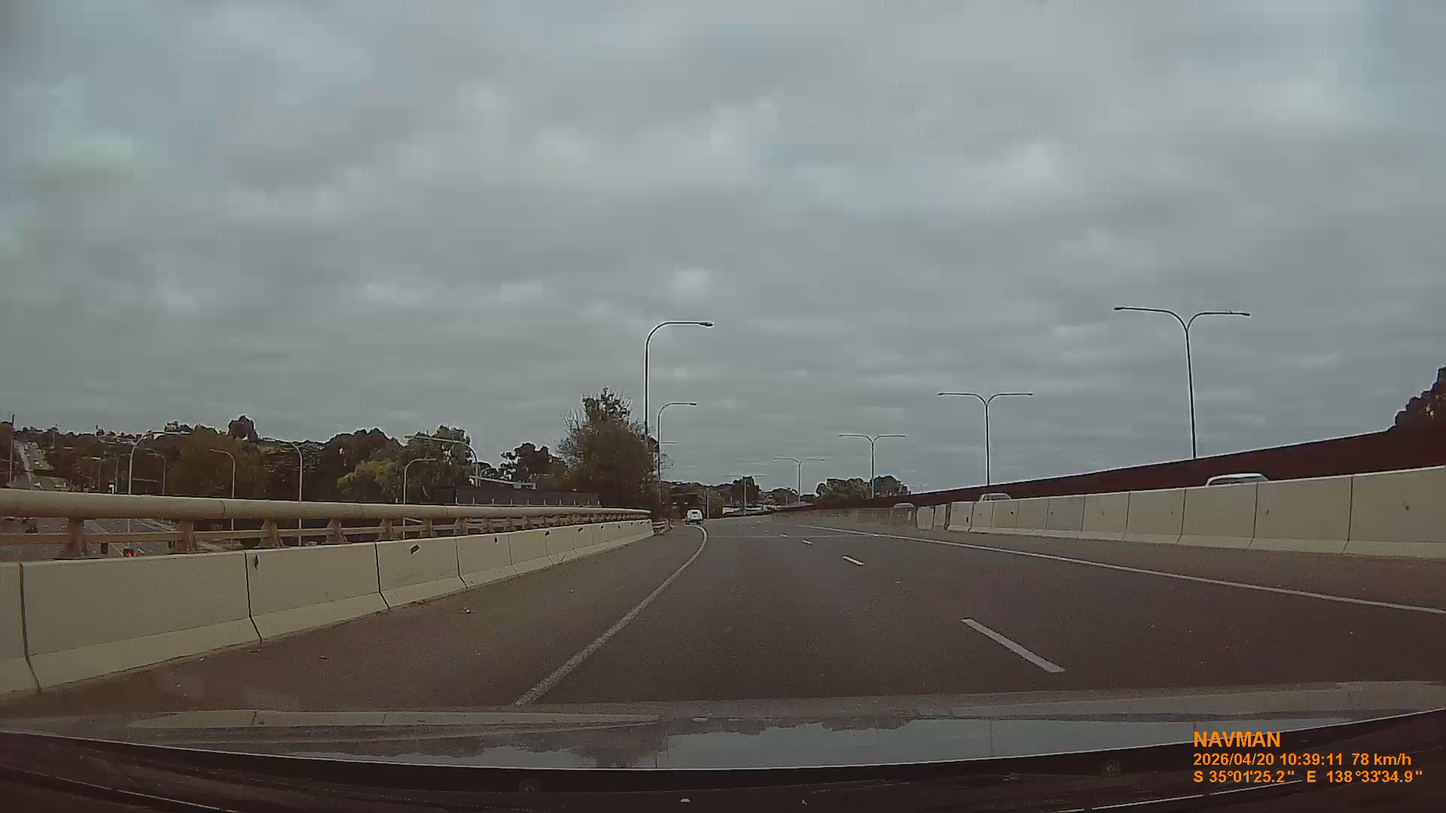road barriers: (0, 489, 654, 702), (914, 467, 1445, 559), (22, 553, 258, 690), (244, 544, 387, 639), (1346, 467, 1445, 557), (1251, 477, 1353, 553), (377, 537, 466, 607), (1178, 483, 1256, 549), (0, 564, 37, 695), (788, 501, 919, 533), (1124, 489, 1185, 543), (456, 534, 514, 586), (1081, 492, 1130, 540), (1043, 495, 1085, 537), (1013, 498, 1050, 534), (970, 501, 998, 531), (992, 501, 1020, 531), (947, 502, 975, 531), (933, 504, 950, 530), (916, 507, 935, 530)
